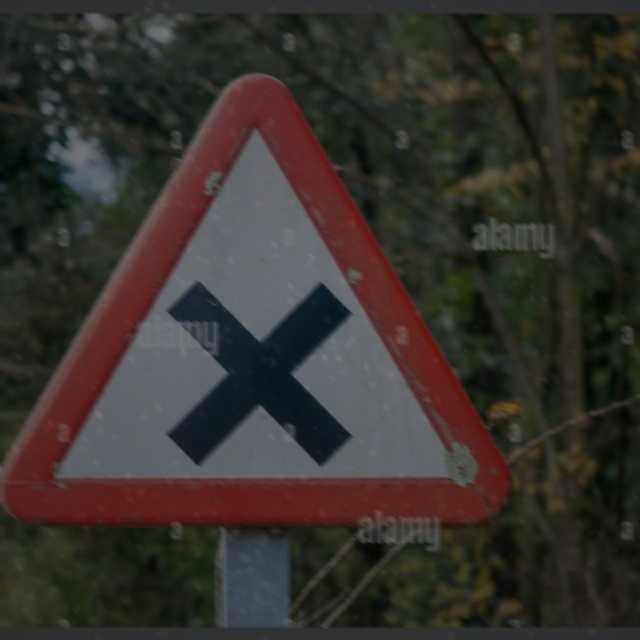Cross_Road: (17, 82, 505, 520)
